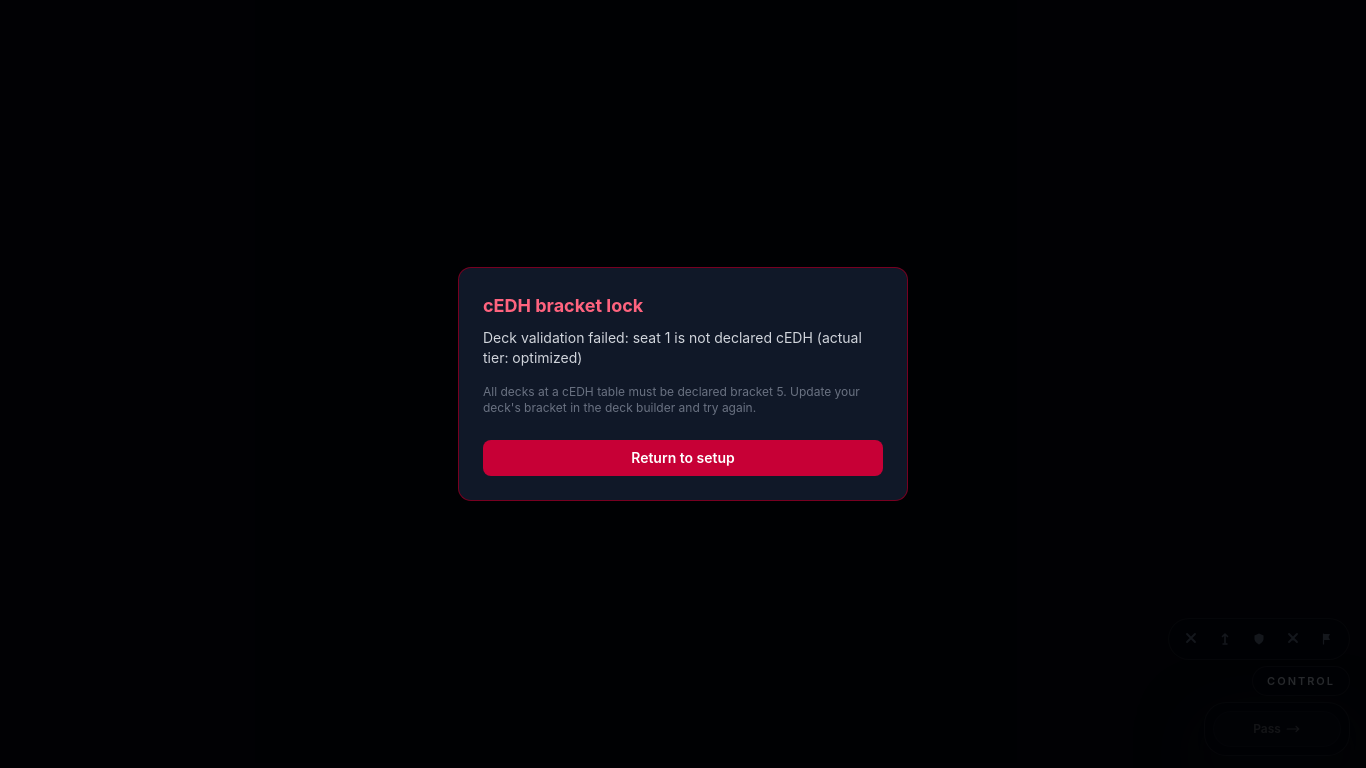
Test: GamePage — cEDH bracket-violation blocking modal › navigates to /setup when the 'Return to setup' button is clicked
The width and height of the screenshot is (1366, 768).
Click the button "Return to setup": (683, 458) [483,440,883,476]
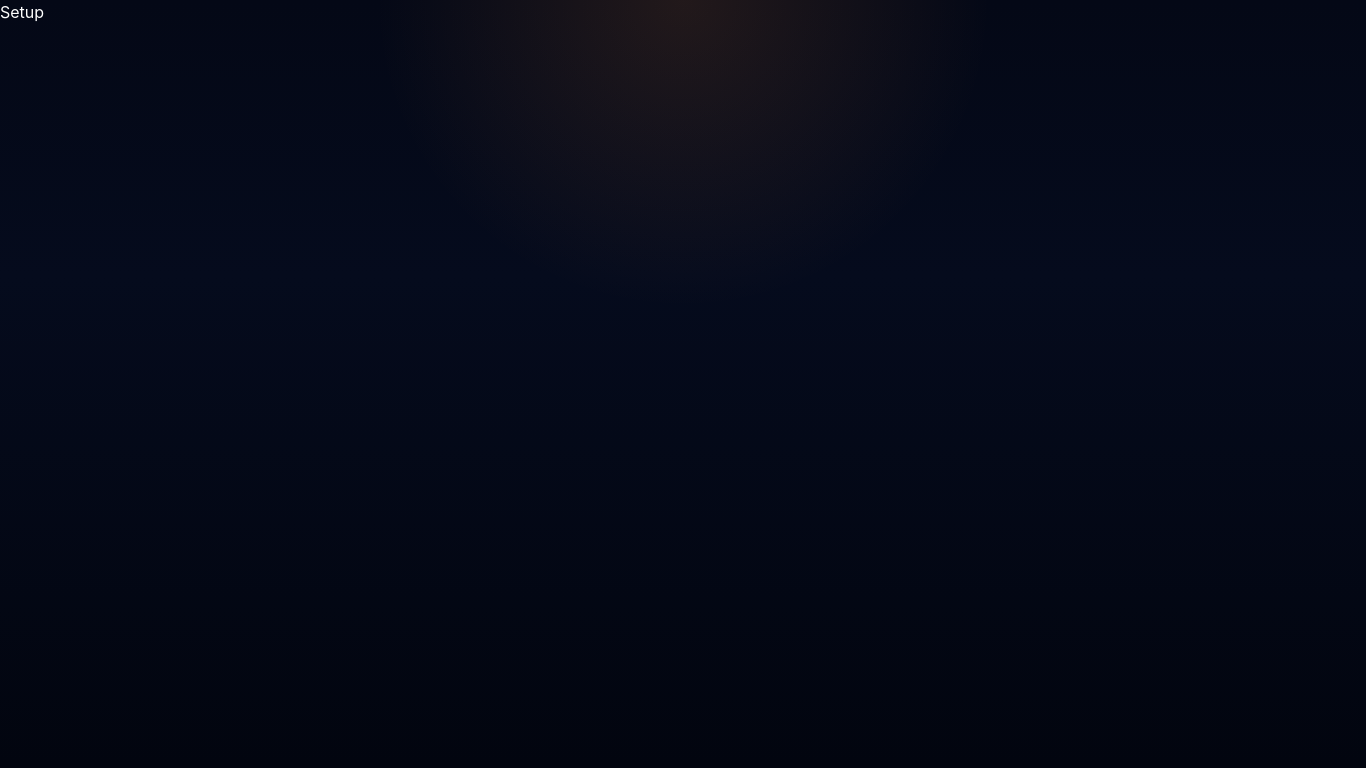
Check: the text "Setup" is shown, box [0,2,44,22]
Check: the dialog with test id "bracket-violation-modal" is gone
